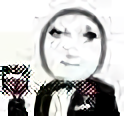dragon: (49, 27, 98, 67)
